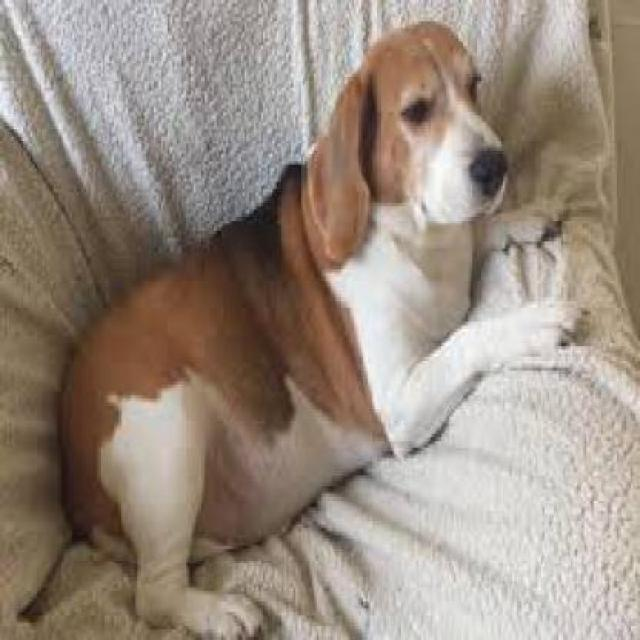Dog: (17, 17, 589, 637)
